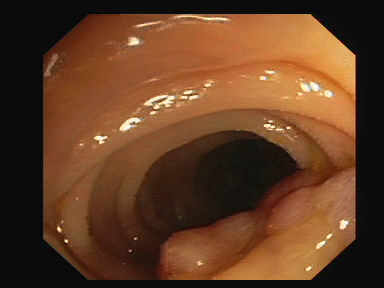polyp: (160, 210, 257, 282), (261, 171, 324, 232), (256, 164, 327, 200)
